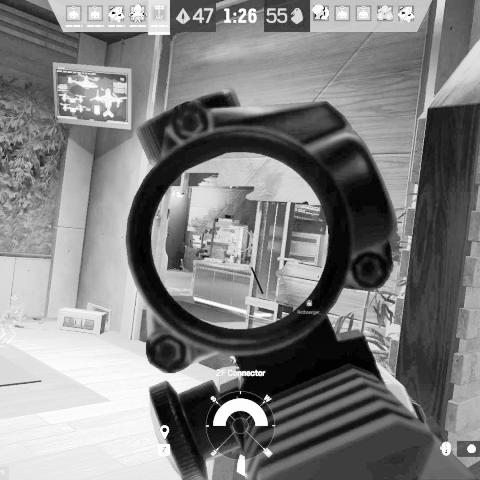Character: (230, 234, 237, 251)
Friend_label: (297, 299, 321, 315), (5, 292, 24, 309)
Head: (231, 234, 233, 237)
